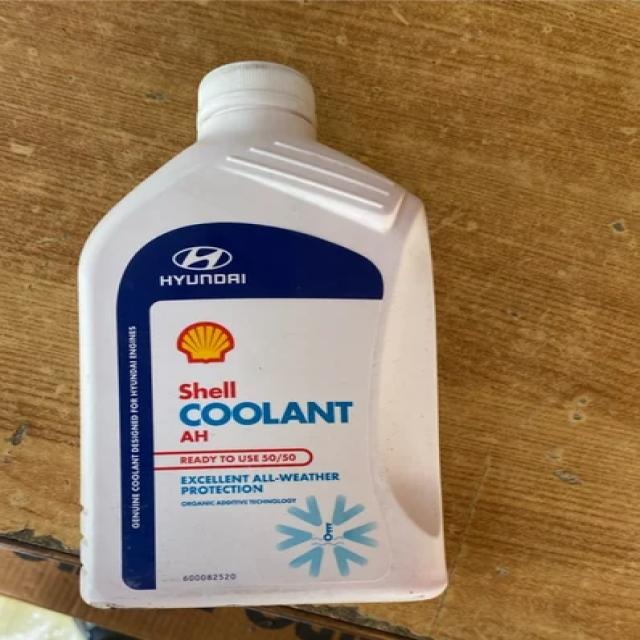coolant: (71, 56, 463, 616)
